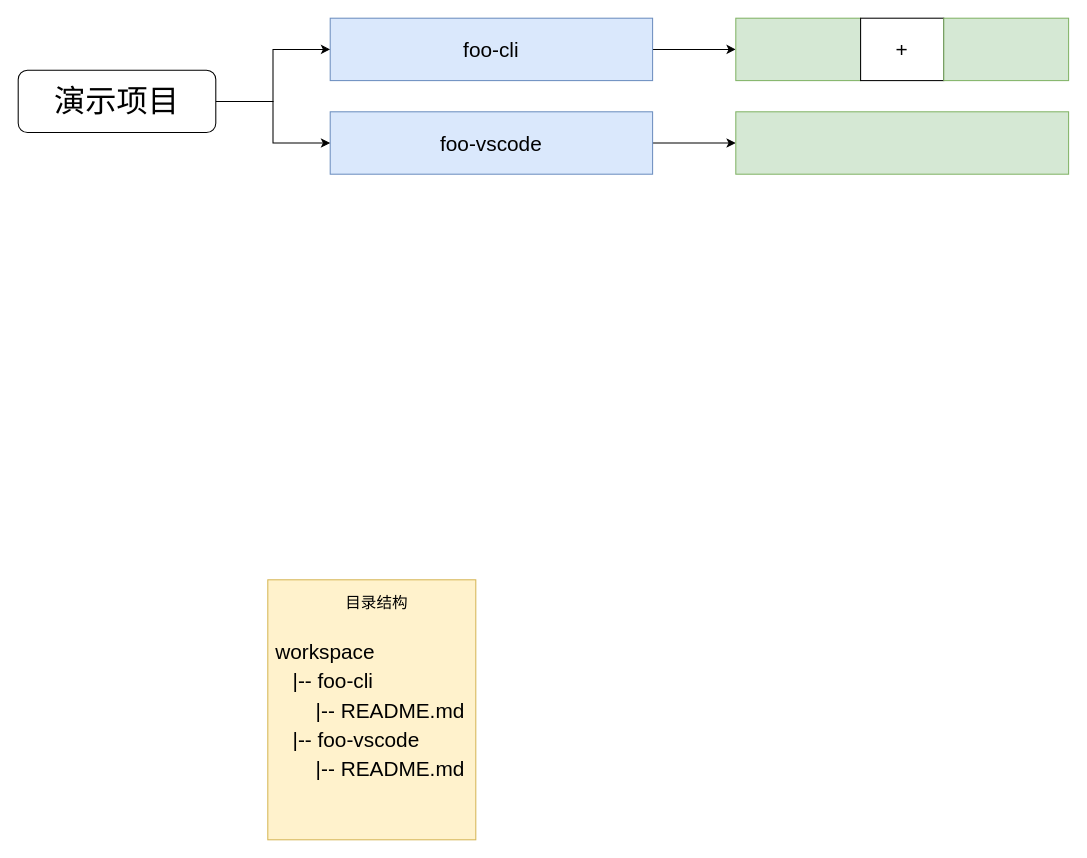
The diagram is 1087 pixels wide and 858 high, and some of its shapes have lost their labels. The shapes that lost their labels are listed below. From the top down, each one's centre as x and y in pixels, then its label:
[798,49]: git命令
[1006,49]: vim
[902,142]: VS Code
